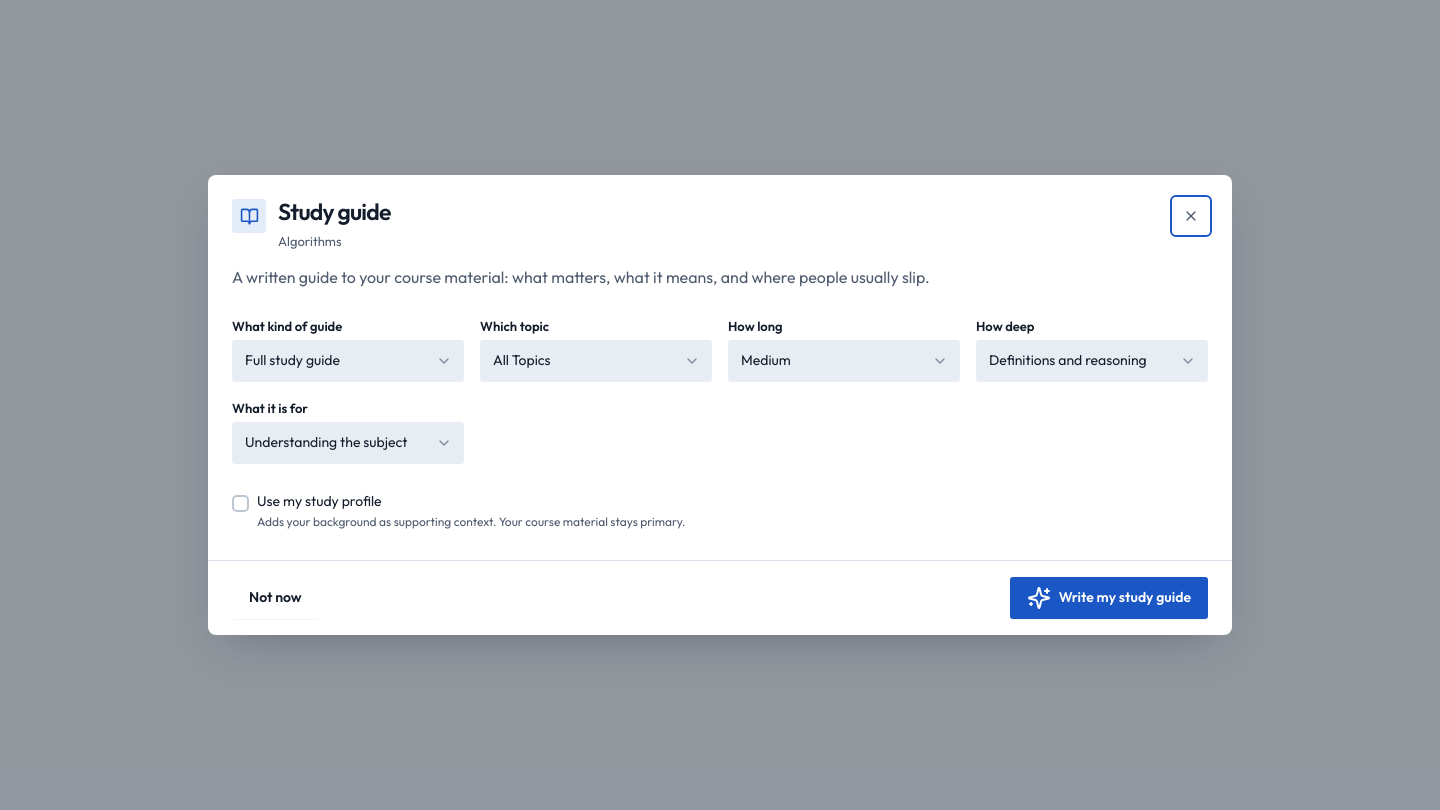
queueing a study guide › keeps enqueue failures in the setup dialog with a recovery action
Click the button "Write my study guide".
click(1109, 598)  # box left=1010, top=576, right=1208, bottom=618
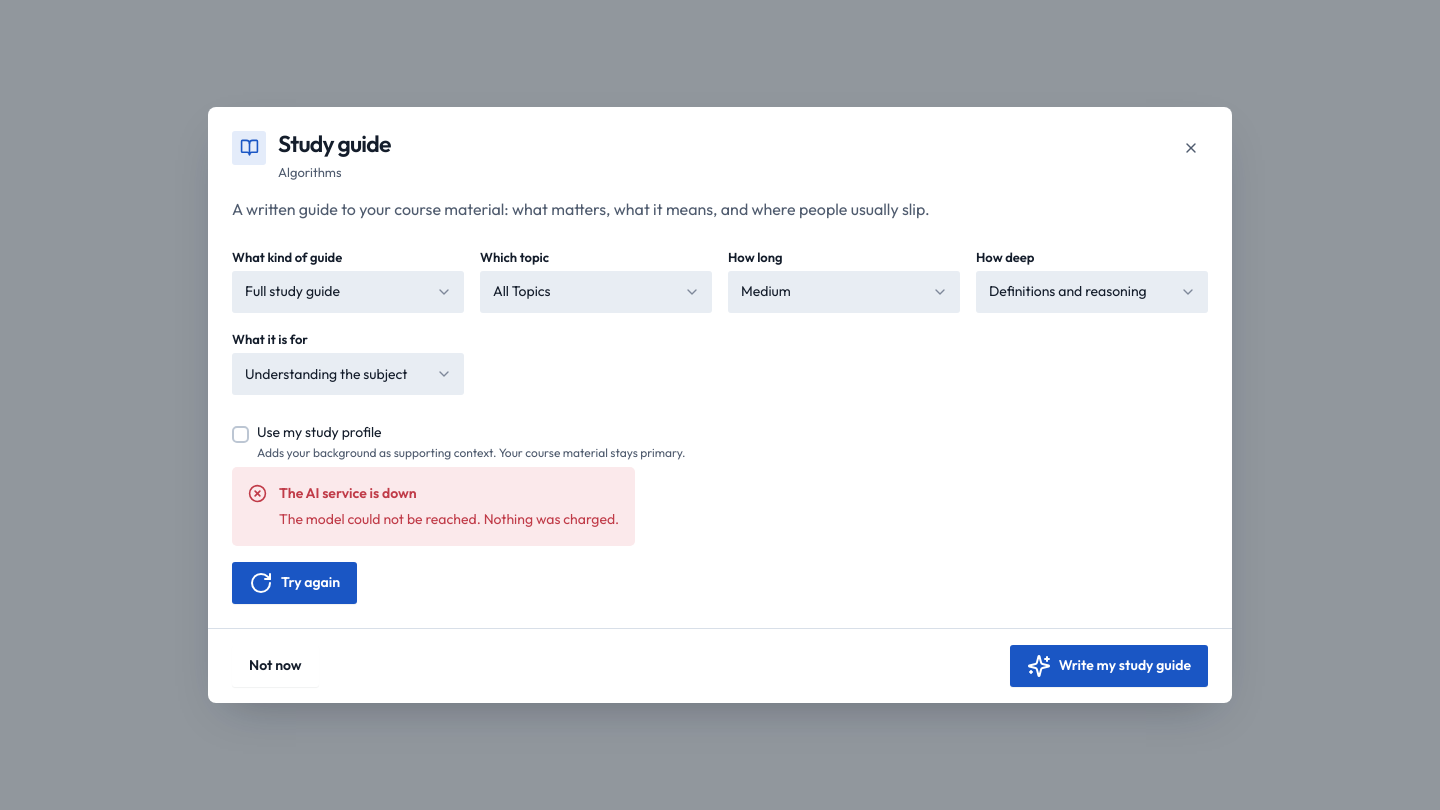
expect the text "The AI service is down" is shown: met, box left=279, top=484, right=417, bottom=502
expect the button "Try again" is shown: met, box left=232, top=562, right=357, bottom=604
